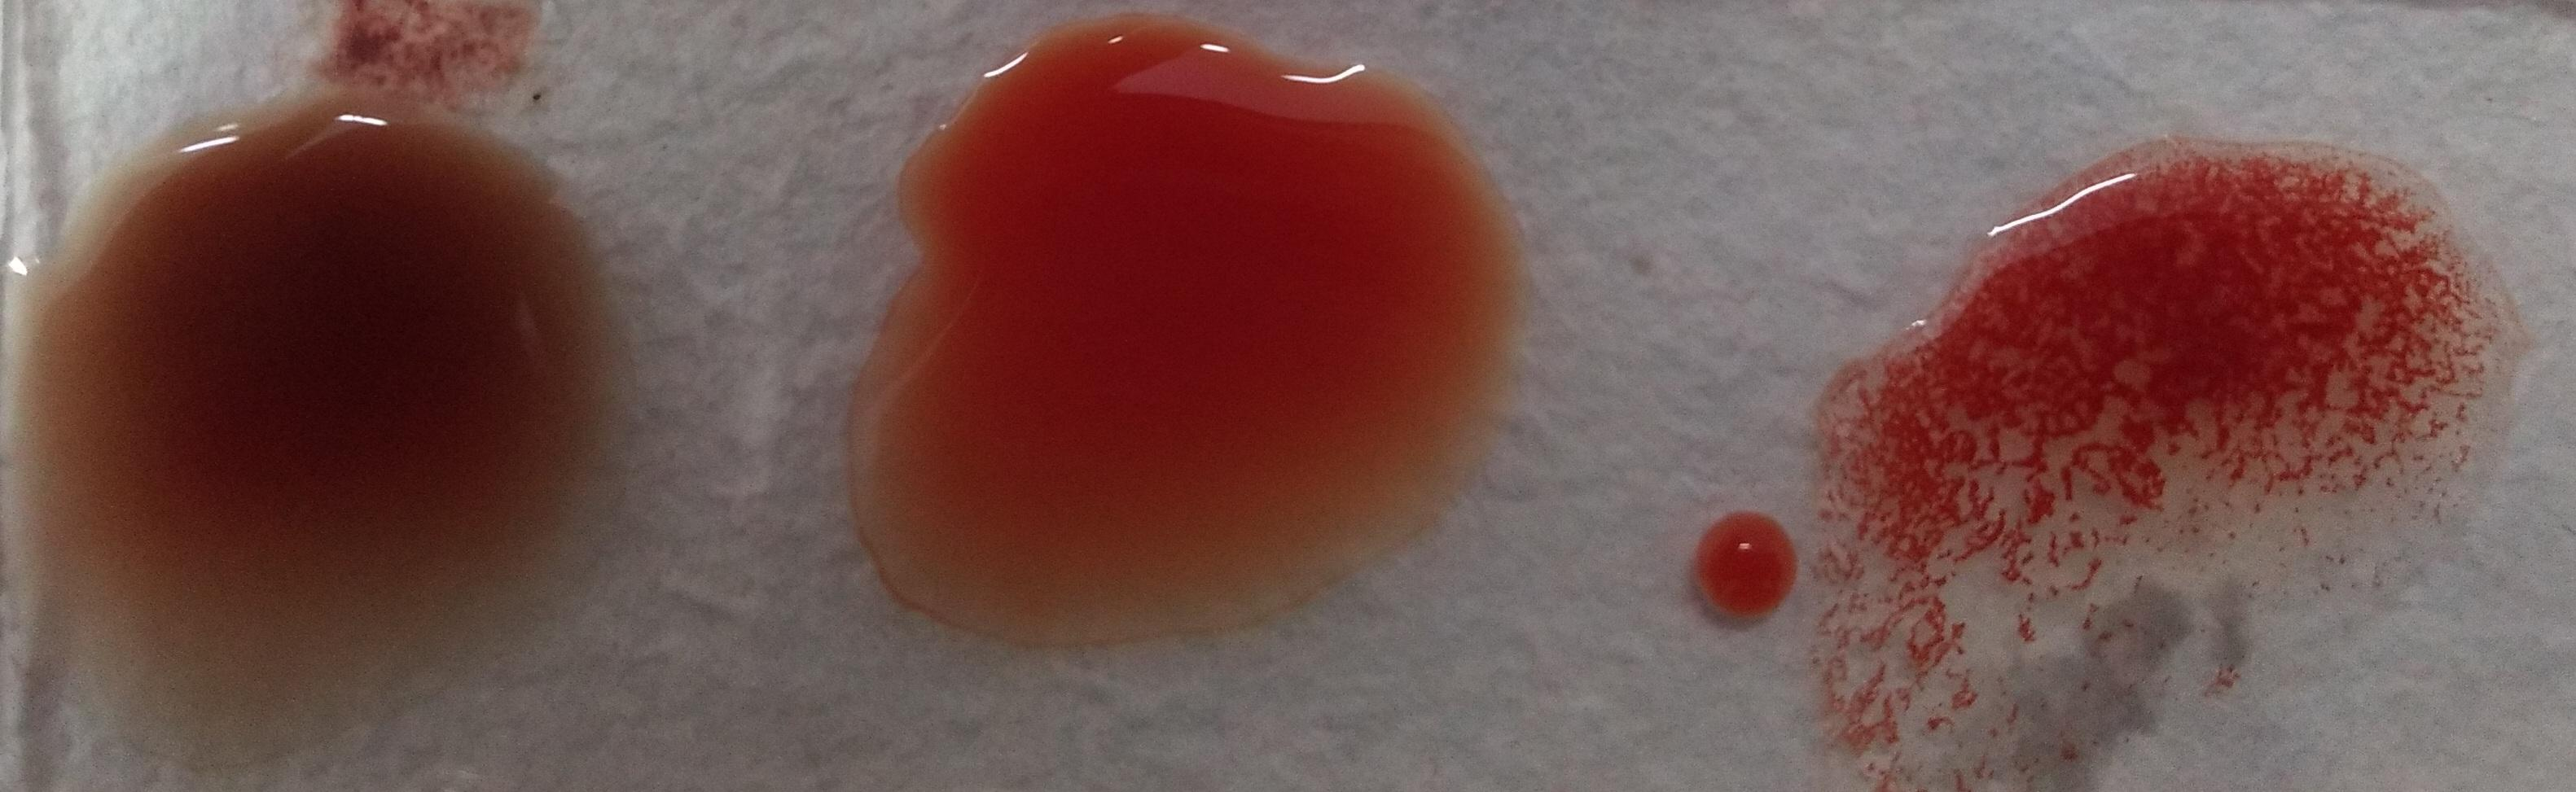D: (1830, 150, 2466, 764)
